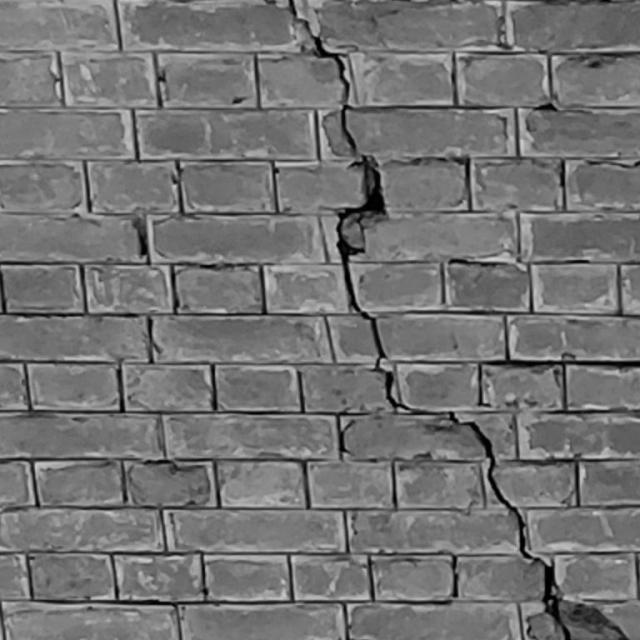crack: (288, 1, 627, 639)
